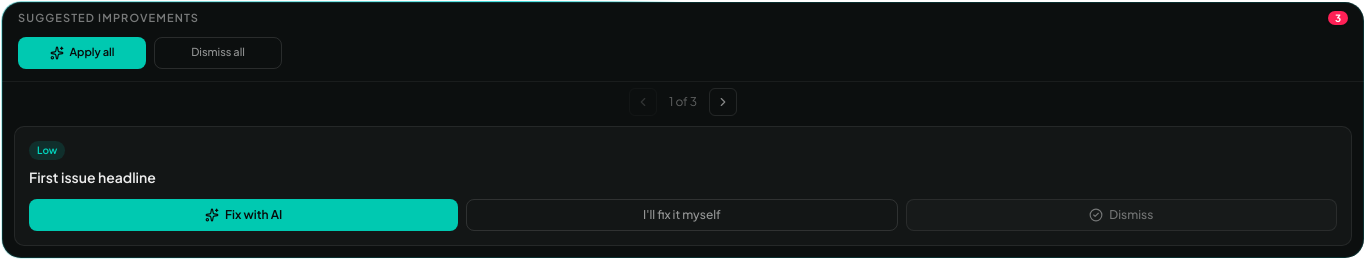
Scenario: ImprovementsPanel › 'I'll fix it myself' removes exactly the clicked suggestion (not a neighbour)
Expected: the text "First issue headline" is shown, [29,168,156,186]
Expected: the text "1 of 3" is shown, [669,94,697,110]
Click the button "I'll fix it myself": point(682, 215) [466,199,898,231]
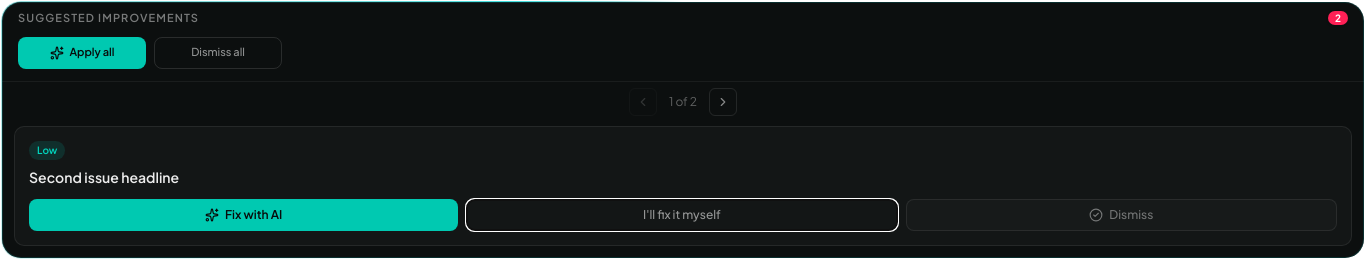
Expected: the text "First issue headline" is gone
Expected: the text "Second issue headline" is shown, [29,168,179,186]
Expected: the text "1 of 2" is shown, [669,94,697,110]
